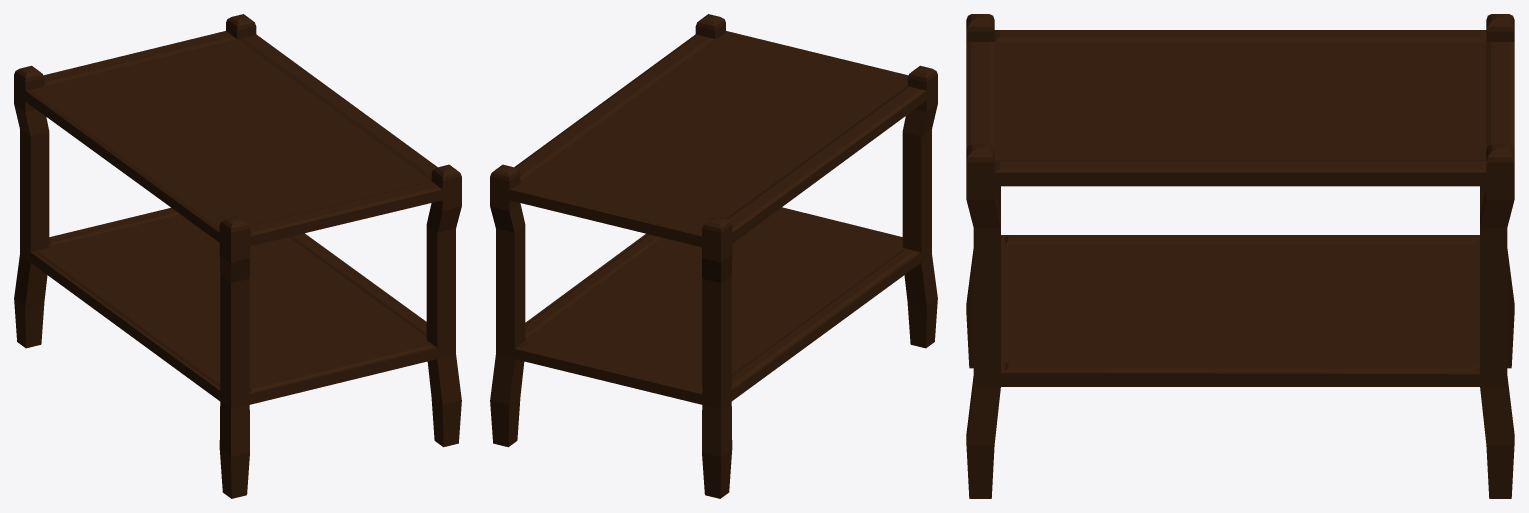
Rendered from Minitable.fbx.
3 renders of one model, left to right at view 1: azimuth 30°, elevation 25°; view 2: azimuth 150°, elevation 25°; view 3: azimuth 270°, elevation 25°, orthographic. The views are drawn at different scales.
Visible parts, largest first — view 1: mini tablo; view 2: mini tablo; view 3: mini tablo.
Part boxes in pixels (x1,y1,x2,y2): mini tablo: (14, 14, 461, 498); mini tablo: (490, 14, 937, 498); mini tablo: (966, 14, 1514, 498).
Bounding box in the file's own units: 96 × 109 × 156.
